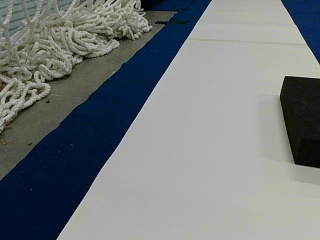block: (280, 74, 319, 168)
